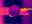Hotspot: (20, 8, 31, 11)
